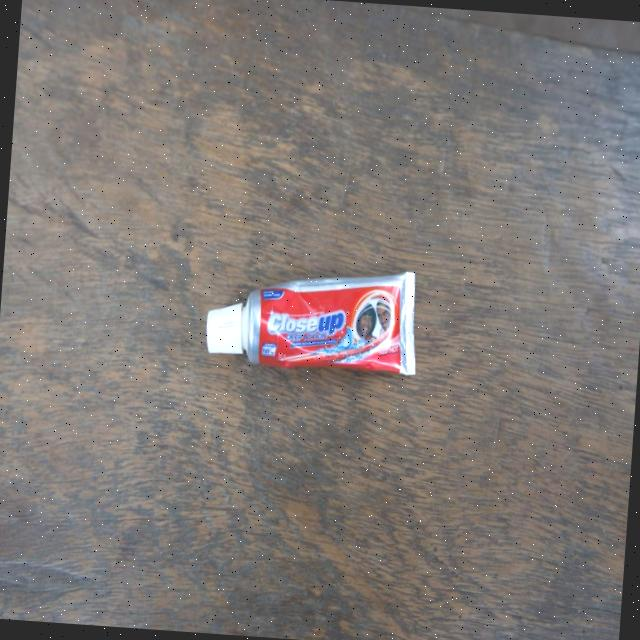Toothpaste: (202, 258, 423, 380)
